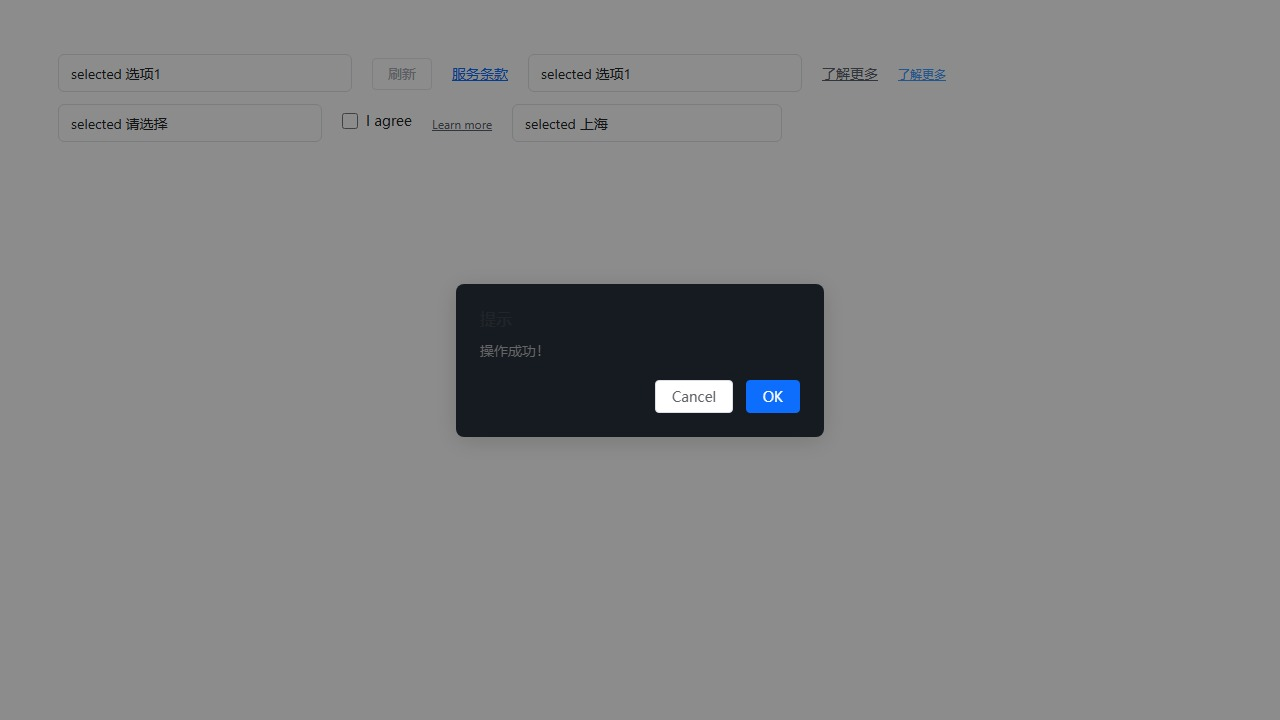button: (655, 380, 733, 412), (372, 57, 432, 89), (746, 380, 800, 412)
checkbox: (342, 112, 358, 128)
icon: (366, 111, 412, 130)
link: (452, 64, 508, 83), (822, 64, 878, 83), (432, 116, 492, 132), (898, 65, 946, 81)
modal: (0, 0, 1280, 720)
radio: (342, 111, 412, 130)
select: (58, 54, 352, 92), (528, 54, 802, 92), (512, 104, 782, 142), (58, 104, 322, 142)
